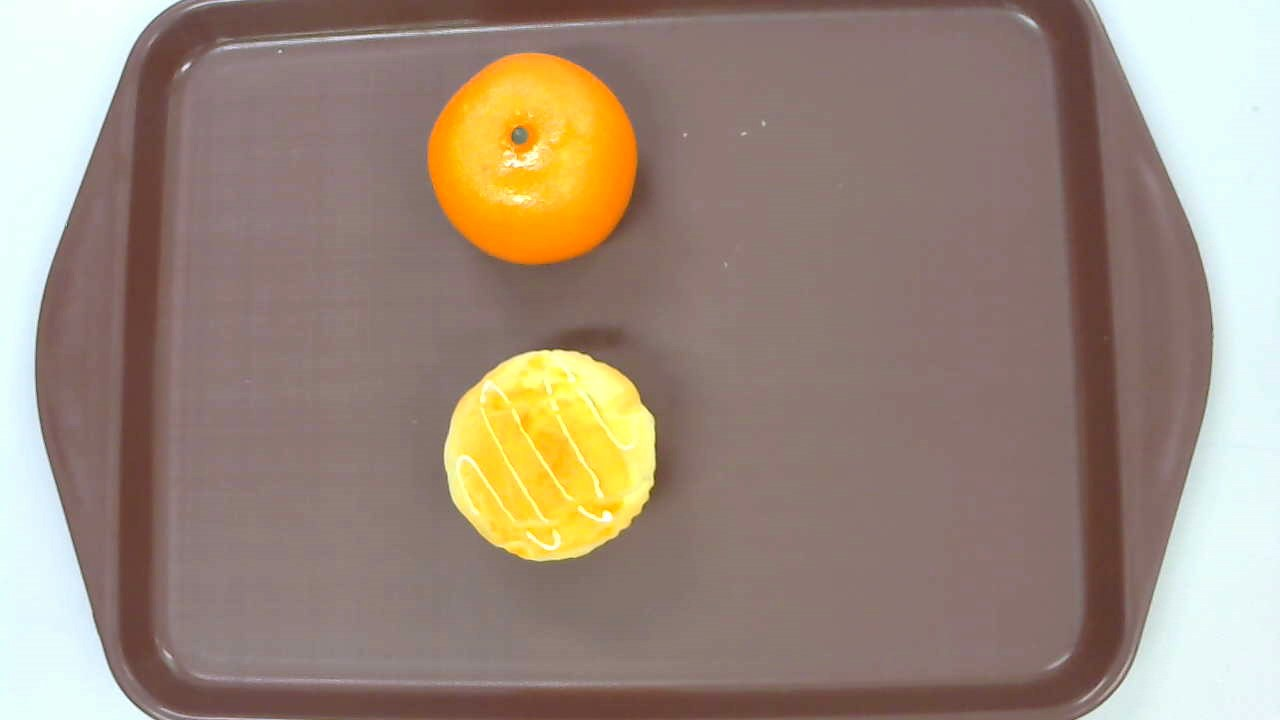cupcake: (443, 348, 658, 562)
orange: (426, 53, 638, 266)
